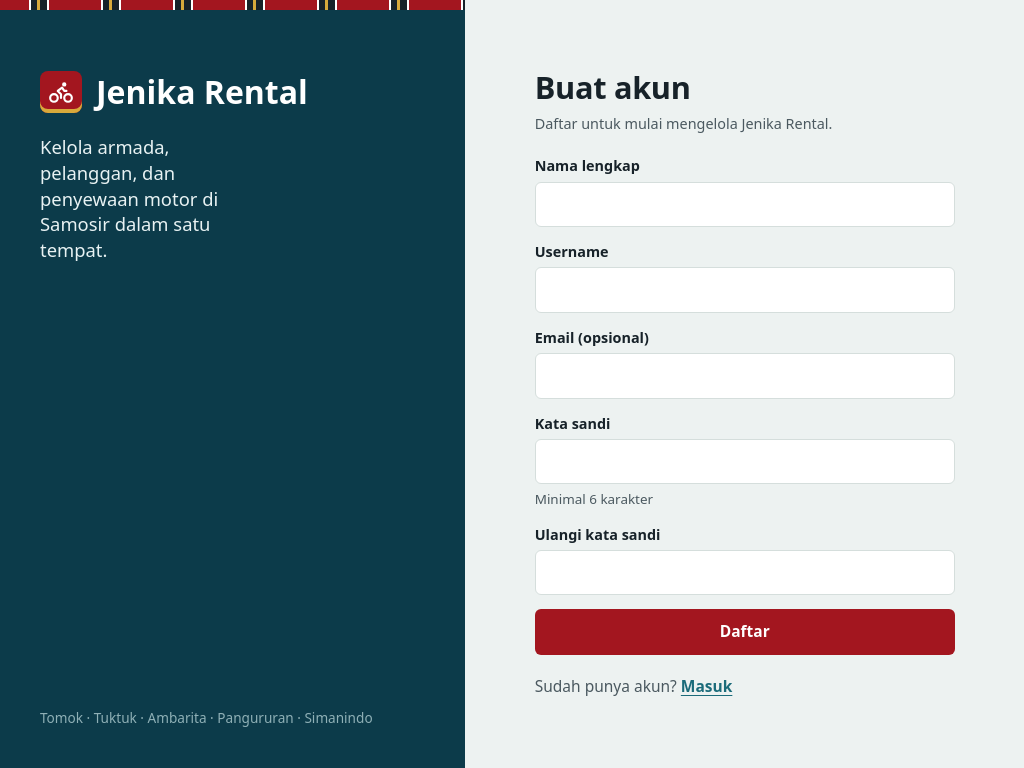
Test: Register › konfirmasi sandi berbeda ditolak di frontend
Type "Dimas Sidabutar" into the field labelled "Nama lengkap". click: (745, 204)
box: [535,182,955,227]
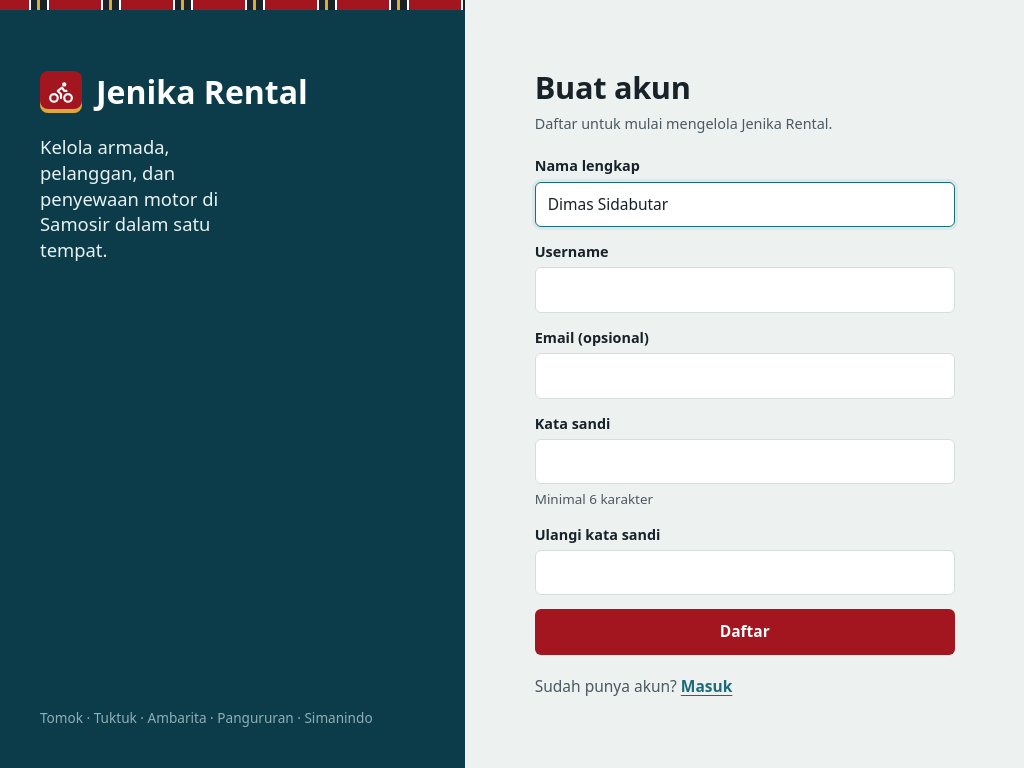
Type "dimas" into the field labelled "Username". click: (745, 290)
box: [535,268,955,313]
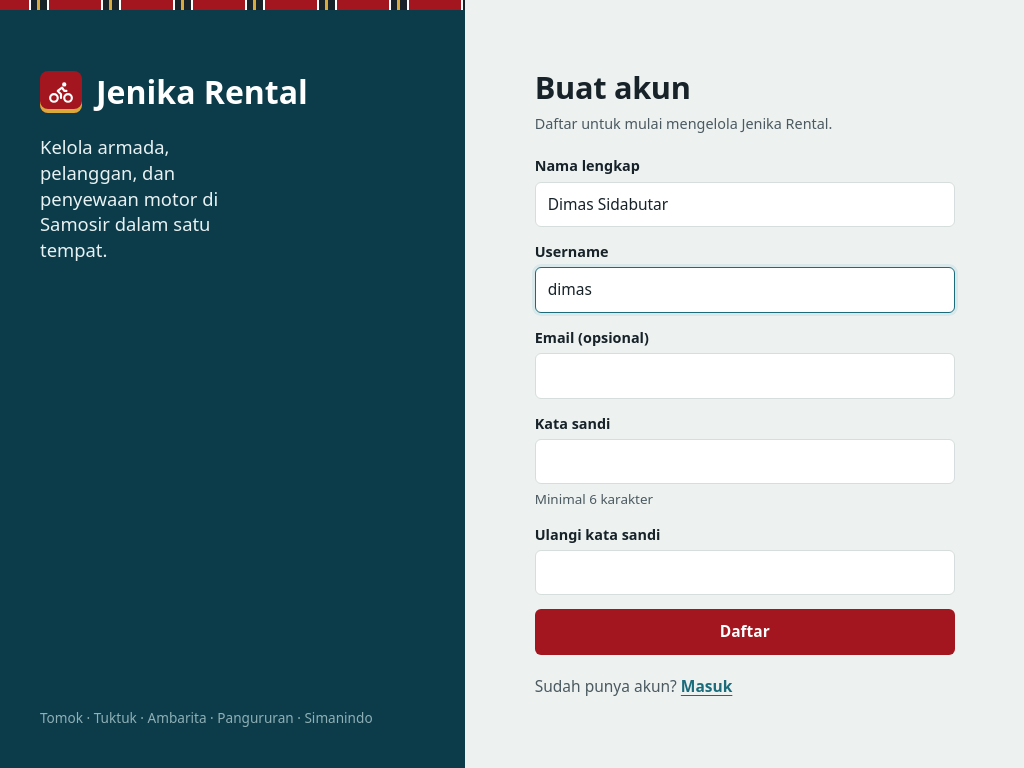
Type "rahasia123" into the password field labelled "Kata sandi". click: (745, 462)
box: [535,439,955,484]
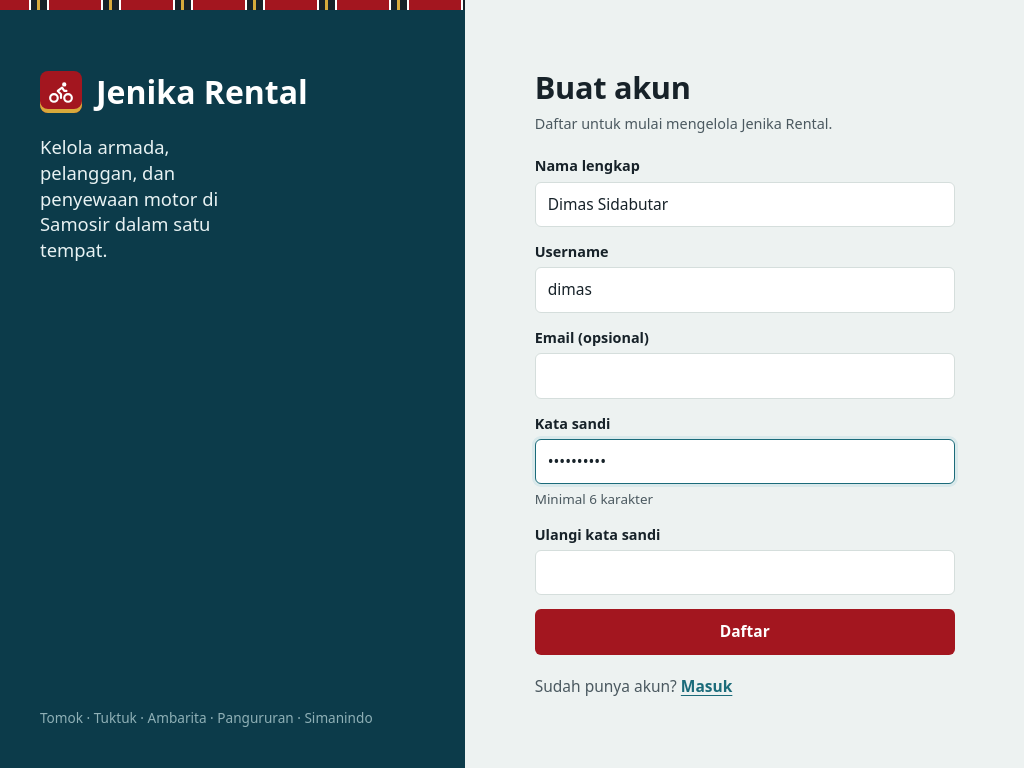
Type "beda12345" into the password field labelled "Ulangi kata sandi". click: (745, 573)
box: [535,550,955,596]
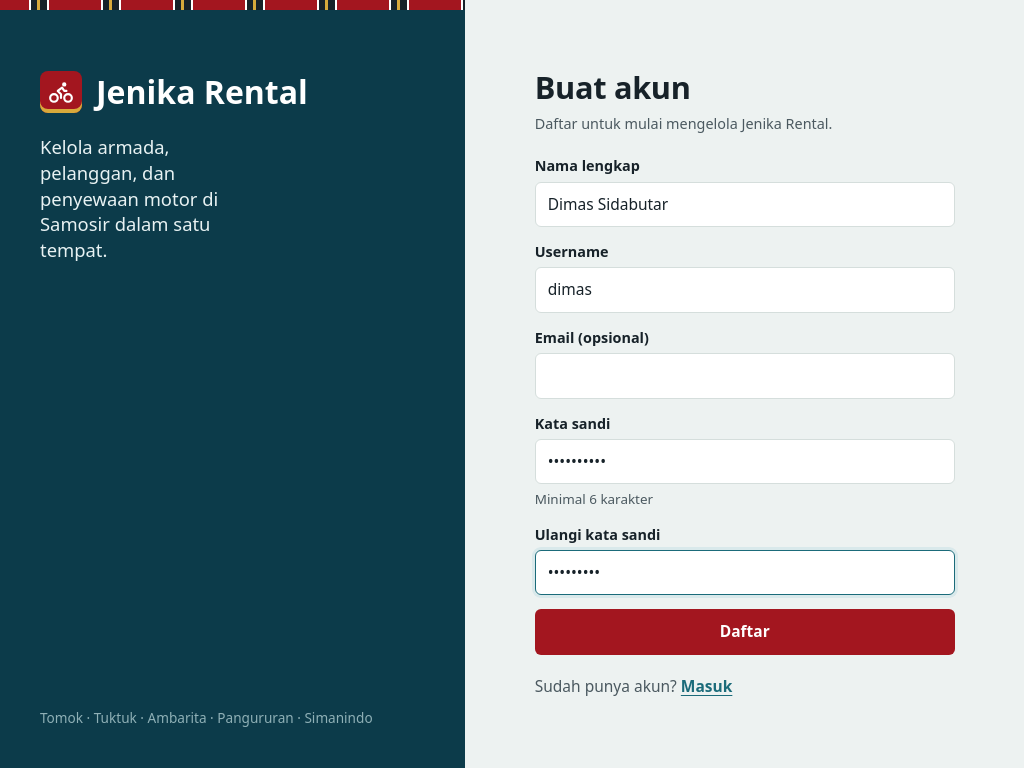
Click the button "Daftar". click: (745, 632)
box: [535,609,955,655]
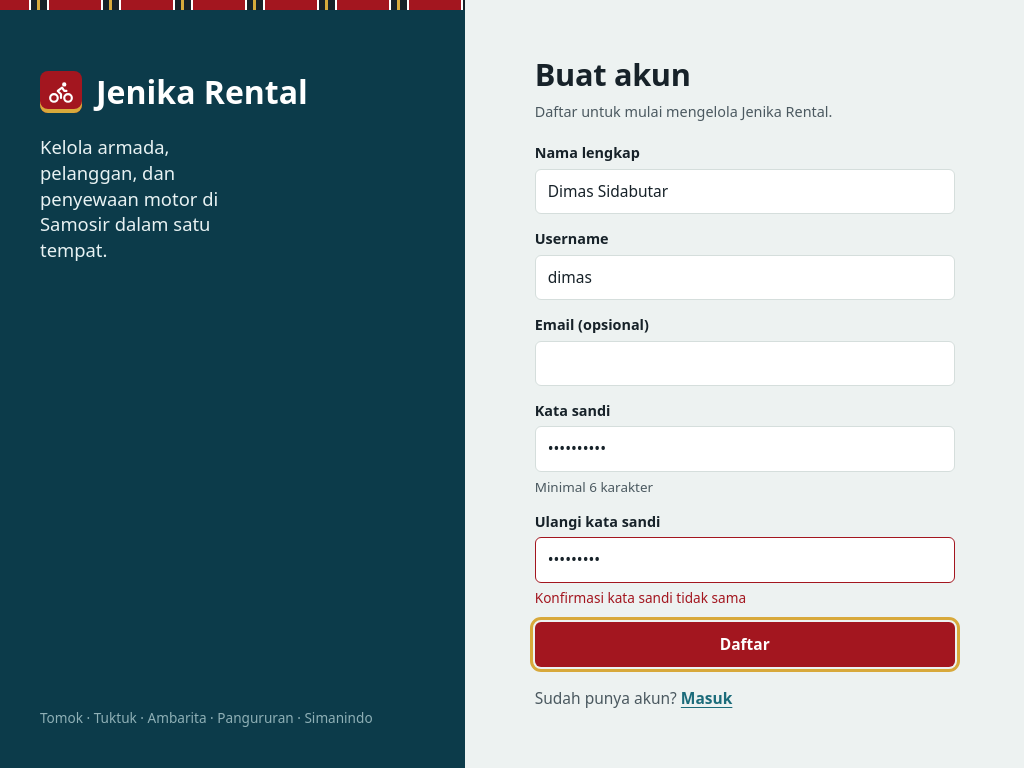
Expected: the text "Konfirmasi kata sandi tidak sama" is shown, [535,588,746,607]
